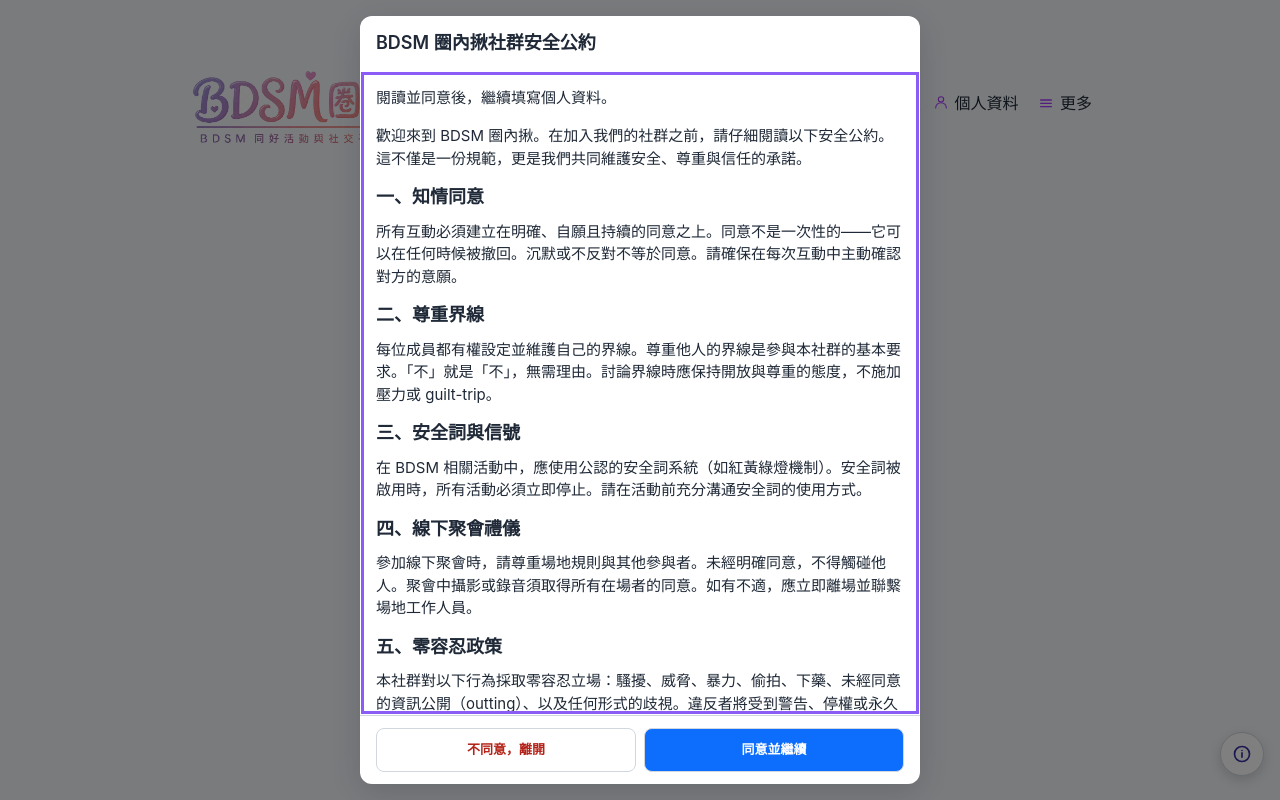
Test case: OnboardingPage › does not show social URL inputs during onboarding
Click the button "同意並繼續": (774, 750) [644, 728, 904, 772]
(page scrolled)
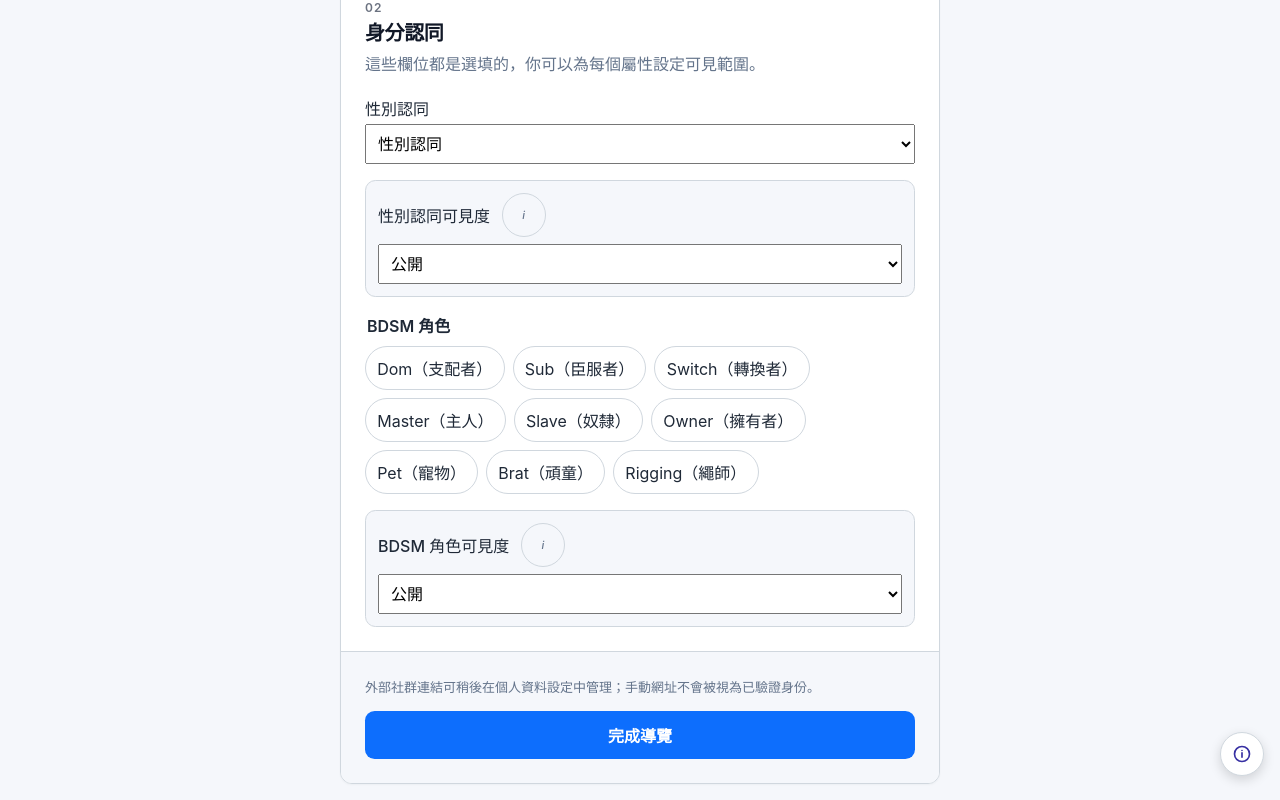
Check: the text "外部社群連結可稍後在個人資料設定中管理；手動網址不會被視為已驗證身份。" is shown, box [365, 679, 820, 695]
